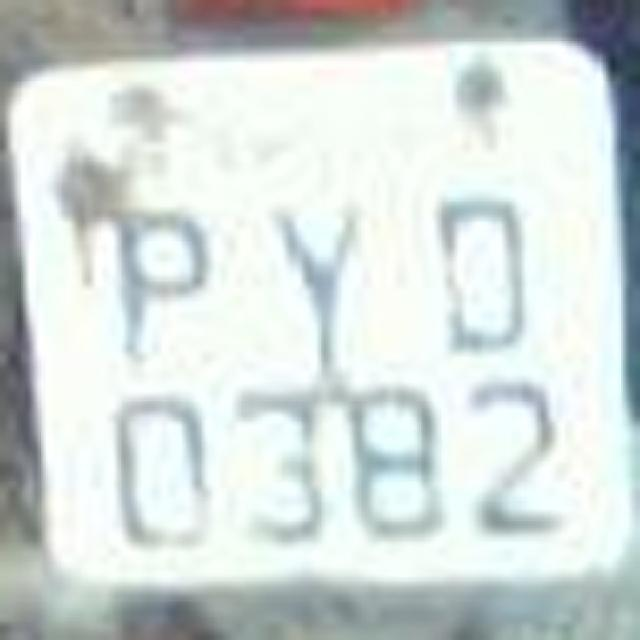0: (75, 352, 240, 560)
2: (420, 356, 585, 564)
3: (200, 365, 348, 560)
8: (320, 360, 455, 560)
O: (416, 180, 552, 372)
P: (88, 180, 224, 372)
Y: (244, 180, 396, 380)
